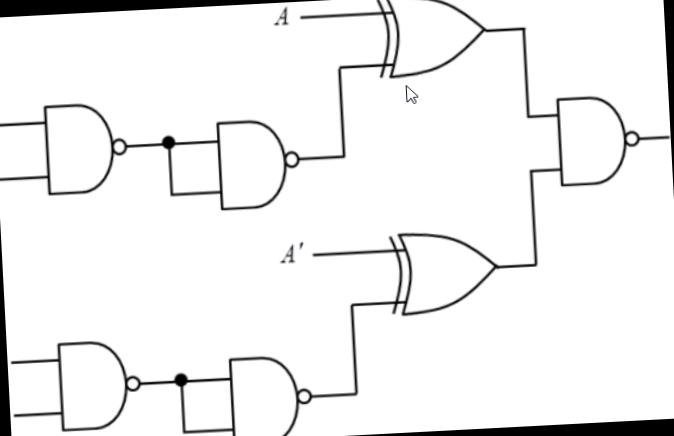nand: (49, 332, 147, 436), (38, 95, 132, 201), (551, 88, 646, 192), (210, 114, 305, 215), (220, 347, 318, 436)
xor: (381, 224, 507, 320), (368, 0, 492, 83)
